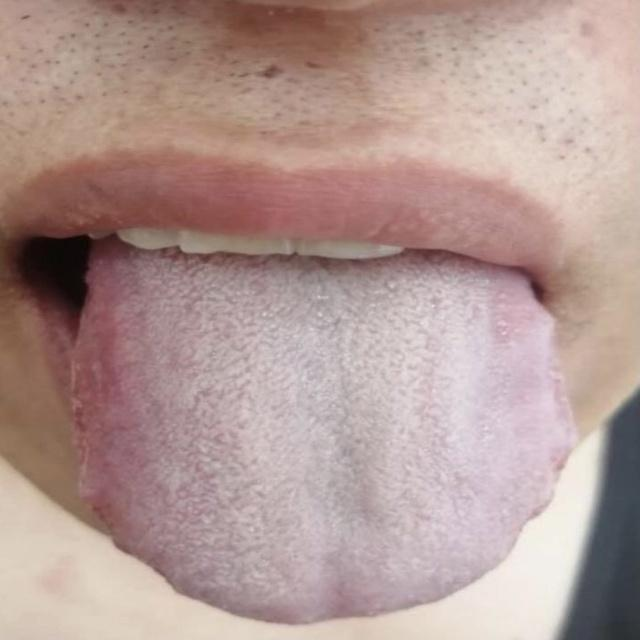baitaishe: (72, 261, 573, 626)
chihenshe: (74, 426, 184, 594), (513, 319, 572, 550)
